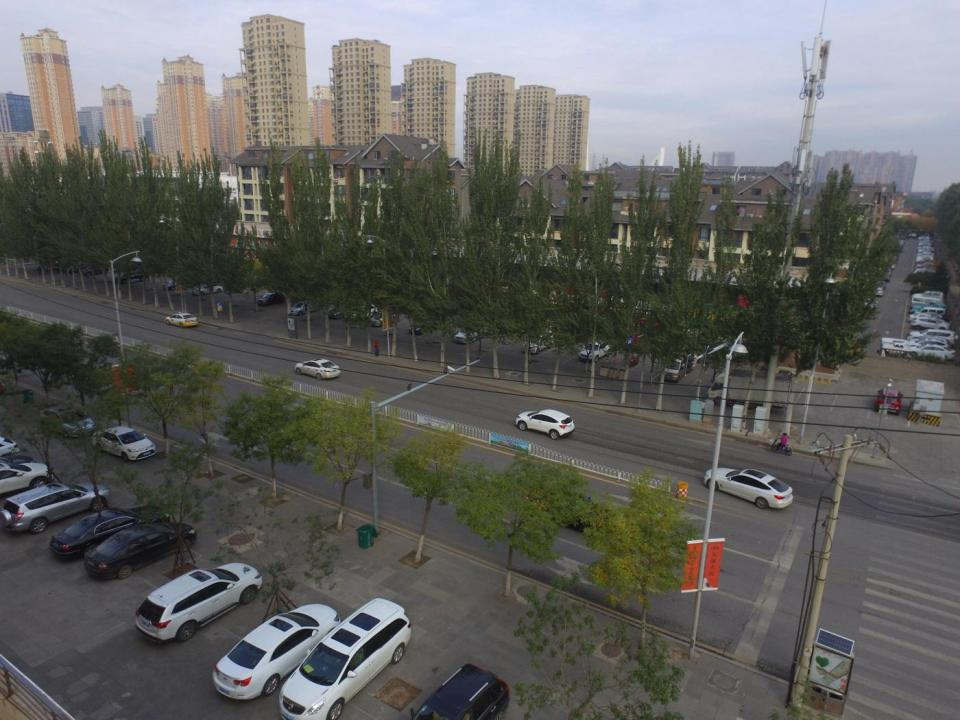car: (212, 604, 340, 697), (134, 562, 262, 644), (50, 502, 172, 559), (82, 519, 197, 578), (410, 662, 516, 720), (524, 480, 618, 540), (706, 465, 792, 510), (92, 426, 156, 462), (38, 403, 96, 439), (0, 460, 55, 495), (516, 408, 575, 440), (293, 359, 341, 381), (453, 319, 488, 345), (578, 338, 612, 364), (906, 345, 954, 362), (522, 330, 555, 354), (876, 386, 903, 415), (112, 264, 149, 285), (370, 303, 400, 328), (409, 313, 441, 336), (162, 272, 199, 291), (344, 302, 380, 321), (287, 298, 323, 316), (326, 302, 362, 320), (912, 337, 950, 354), (911, 307, 946, 324), (77, 260, 110, 278), (909, 312, 947, 327), (164, 312, 198, 328), (63, 258, 95, 275), (912, 303, 946, 319), (191, 280, 224, 296), (911, 317, 948, 330), (256, 292, 286, 308), (912, 291, 944, 306), (864, 298, 878, 311), (873, 288, 884, 297), (875, 280, 887, 288), (880, 276, 891, 283), (884, 269, 892, 277)
truck: (706, 369, 798, 408)
van: (280, 599, 414, 720), (2, 483, 110, 534), (661, 352, 693, 382), (907, 329, 957, 346), (911, 297, 945, 311)
